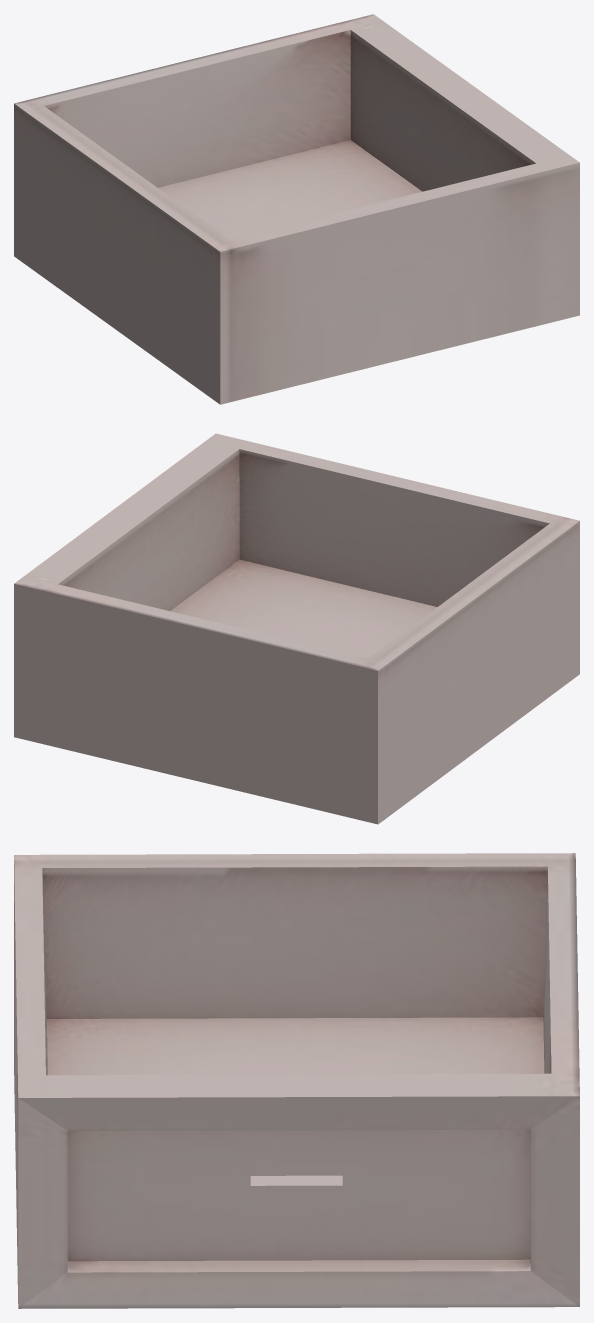
The model's file is drawer2.glb.
3 renders of one model, top to bottom at view 1: azimuth 30°, elevation 25°; view 2: azimuth 150°, elevation 25°; view 3: azimuth 270°, elevation 25°, orthographic. The views are drawn at different scales.
Visible parts, largest first — view 1: frl_apartment_lower_shelf_01_part_04.001; view 2: frl_apartment_lower_shelf_01_part_04.001; view 3: frl_apartment_lower_shelf_01_part_04.001.
Part boxes in pixels (<box>): frl_apartment_lower_shelf_01_part_04.001: <box>14,14,579,404</box>; frl_apartment_lower_shelf_01_part_04.001: <box>14,433,579,824</box>; frl_apartment_lower_shelf_01_part_04.001: <box>14,853,579,1308</box>.
Size of the model in its own units: 0.615 by 0.2469 by 0.6008.
Materials: 1 (1 with a texture image).
